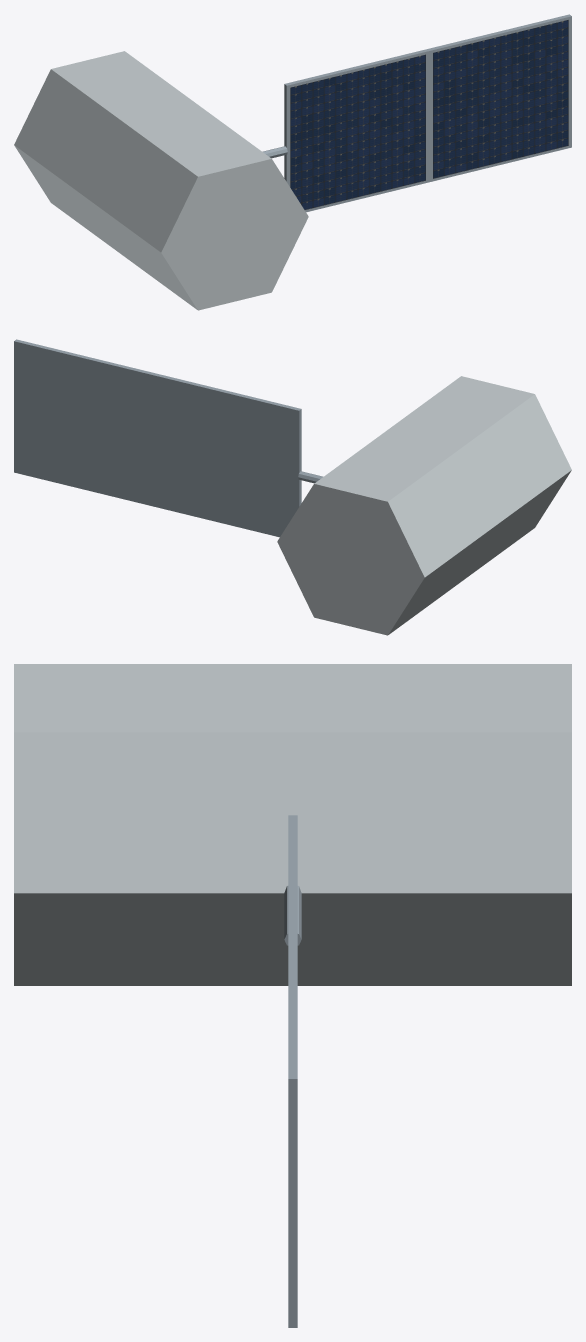
Rendered from ref-leostar-2-750-44628.glb.
The picture shows the model from 3 angles, top to bottom: view 1: azimuth 30°, elevation 25°; view 2: azimuth 150°, elevation 25°; view 3: azimuth 270°, elevation 25°; orthographic projection. The views are drawn at different scales.
Parts seen in each view (by area): view 1: Spacecraft body, Photovoltaic laminates (×2), Array frame (×2); view 2: Spacecraft body, Array frame (×2); view 3: Spacecraft body, Array frame (×2).
Part boxes in pixels (bbox=[...]): Spacecraft body: bbox=[14, 51, 308, 310]; Photovoltaic laminates (×2): bbox=[290, 20, 568, 209]; Array frame (×2): bbox=[284, 14, 571, 212]; Spacecraft body: bbox=[277, 376, 571, 635]; Array frame (×2): bbox=[14, 339, 301, 537]; Spacecraft body: bbox=[14, 664, 571, 985]; Array frame (×2): bbox=[288, 815, 297, 1327].
Size of the model in its own units: 3.6 by 0.9526 by 1.9.
3 materials, 1 textured.
